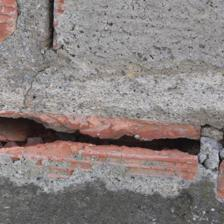Crack: (0, 12, 152, 44), (85, 0, 118, 68), (2, 26, 41, 80)
